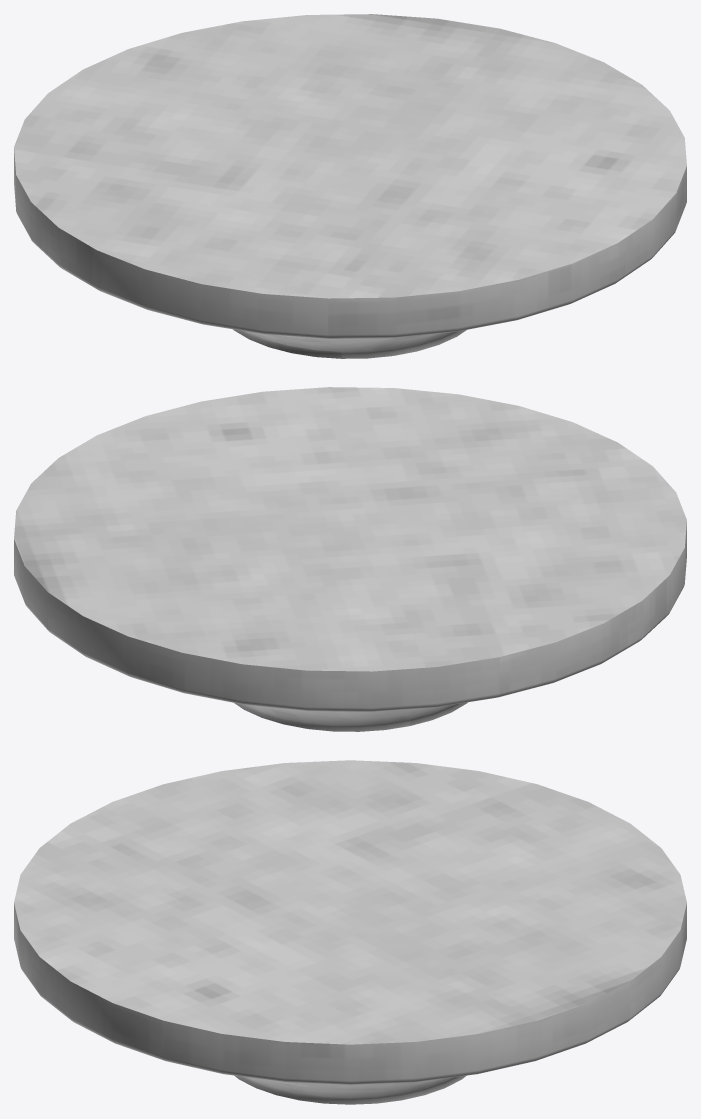
Rendered from PillarTop.fbx.
3 views of the same model, one above another, from view 1: azimuth 30°, elevation 25°; view 2: azimuth 150°, elevation 25°; view 3: azimuth 270°, elevation 25° (orthographic).
Parts seen in each view (by area): view 1: PillarTop; view 2: PillarTop; view 3: PillarTop.
Part boxes in pixels (left/top/right/bottom): PillarTop: left=14, top=14, right=686, bottom=358; PillarTop: left=14, top=387, right=686, bottom=731; PillarTop: left=14, top=760, right=686, bottom=1104.
Size of what is drawn, in the model's own units: 101 by 24.02 by 101.
